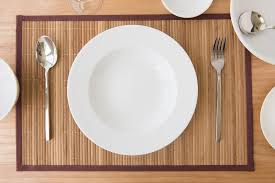piring: (65, 25, 198, 156)
